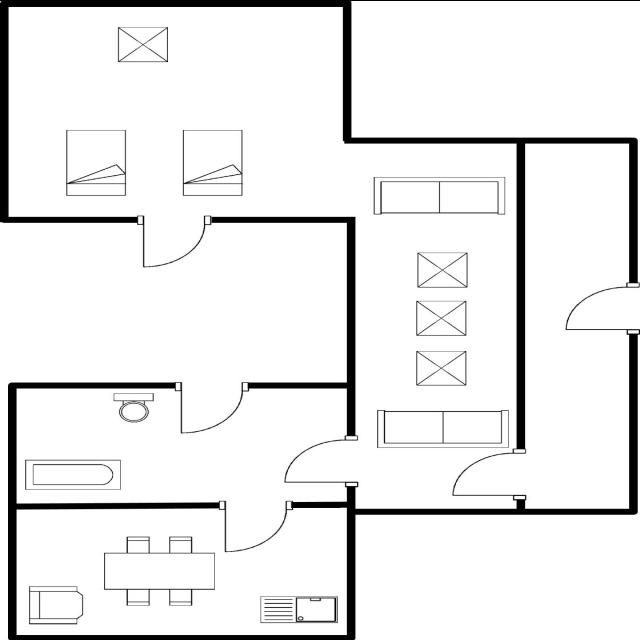armchair: (24, 582, 90, 626)
bed: (177, 125, 249, 198), (62, 125, 132, 198)
coffee_table: (112, 22, 174, 67), (410, 346, 472, 390), (412, 296, 471, 340), (412, 249, 472, 289)
dining_table: (98, 532, 220, 608)
large_sink: (108, 391, 158, 426)
large_sofa: (372, 406, 512, 452), (368, 174, 512, 218)
sink: (254, 592, 340, 626)
tub: (20, 456, 124, 493)
